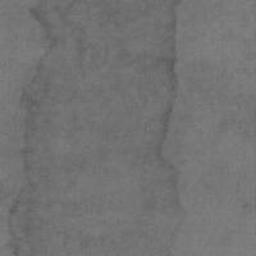Water spot: (5, 0, 187, 256)
